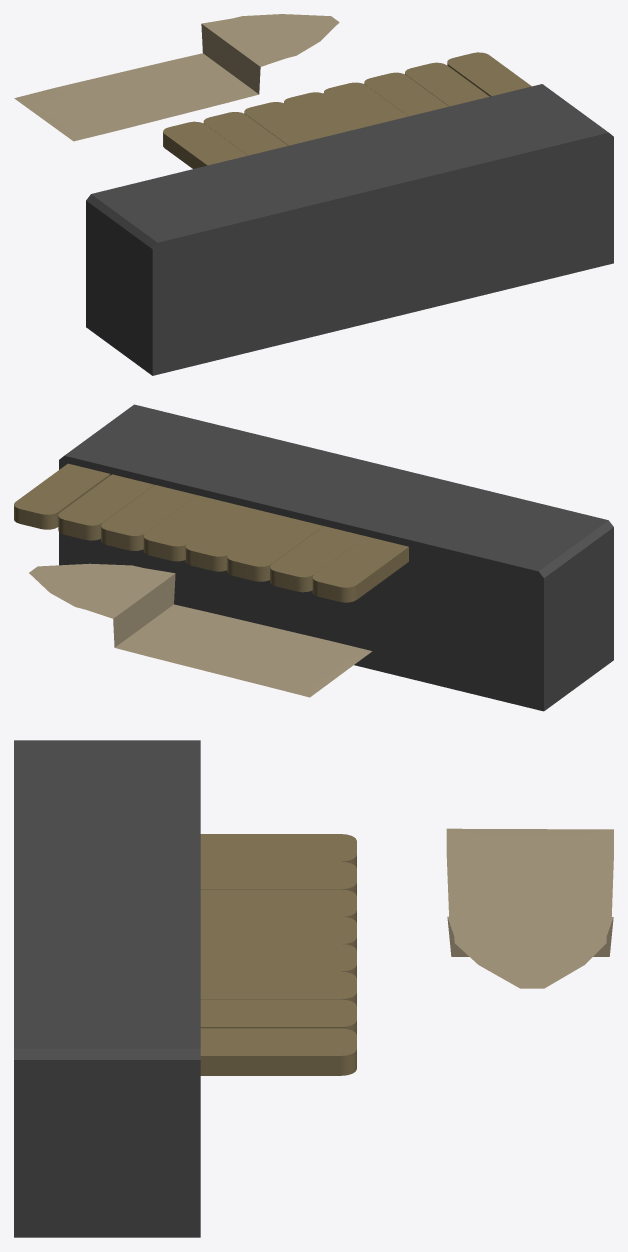
Rendered from substance painter version of outdoor scene.fbx.
3 renders of one model, top to bottom at view 1: azimuth 30°, elevation 25°; view 2: azimuth 150°, elevation 25°; view 3: azimuth 270°, elevation 25°, orthographic. The views are drawn at different scales.
Parts seen in each view (by area): view 1: Stone_dock1, Boatdeck, Dock8, Dock9, Dock2, Dock3, Dock7, Dock5, Dock4, Dock6; view 2: Stone_dock1, Boatdeck, Dock8, Dock9, Dock2, Dock7, Dock3, Dock6, Dock4, Dock5; view 3: Stone_dock1, Boatdeck, Dock9, Dock2, Dock3, Dock7, Dock8, Dock4, Dock6, Dock5.
Boxes of the visible parts, x1,y1,x2,y2 form: Stone_dock1: (86,84,613,375); Boatdeck: (14,14,339,141); Dock8: (163,121,247,168); Dock9: (447,52,531,96); Dock2: (405,62,489,106); Dock3: (364,72,448,116); Dock7: (203,112,287,155); Dock5: (284,92,368,135); Dock4: (323,82,408,125); Dock6: (244,102,327,145); Stone_dock1: (59,404,613,711); Boatdeck: (29,563,372,697); Dock8: (312,536,408,602); Dock9: (14,463,110,529); Dock2: (58,474,154,540); Dock7: (270,526,365,592); Dock3: (101,485,197,550); Dock6: (227,515,323,581); Dock4: (143,495,239,561); Dock5: (185,505,280,571); Stone_dock1: (14,740,200,1237); Boatdeck: (446,828,613,988); Dock9: (200,1028,356,1075); Dock2: (200,999,356,1034); Dock3: (200,971,356,1005); Dock7: (200,861,356,895); Dock8: (200,834,356,867); Dock4: (200,944,356,977); Dock6: (200,889,356,922); Dock5: (200,917,356,950).
Size of the model in its own units: 8 by 2.19 by 6.43.
